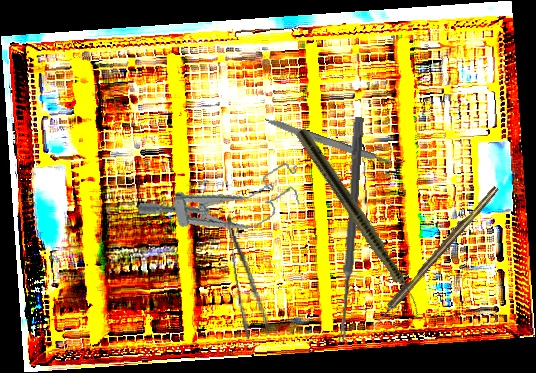Dressing Forceps: (224, 213, 271, 340)
Handpiece: (292, 126, 430, 320)
Hook Surgical: (368, 185, 501, 330)
Scalpel Handle: (263, 116, 393, 169)
Speculum: (135, 160, 307, 249)
Surgical Spoon: (337, 116, 364, 343)
